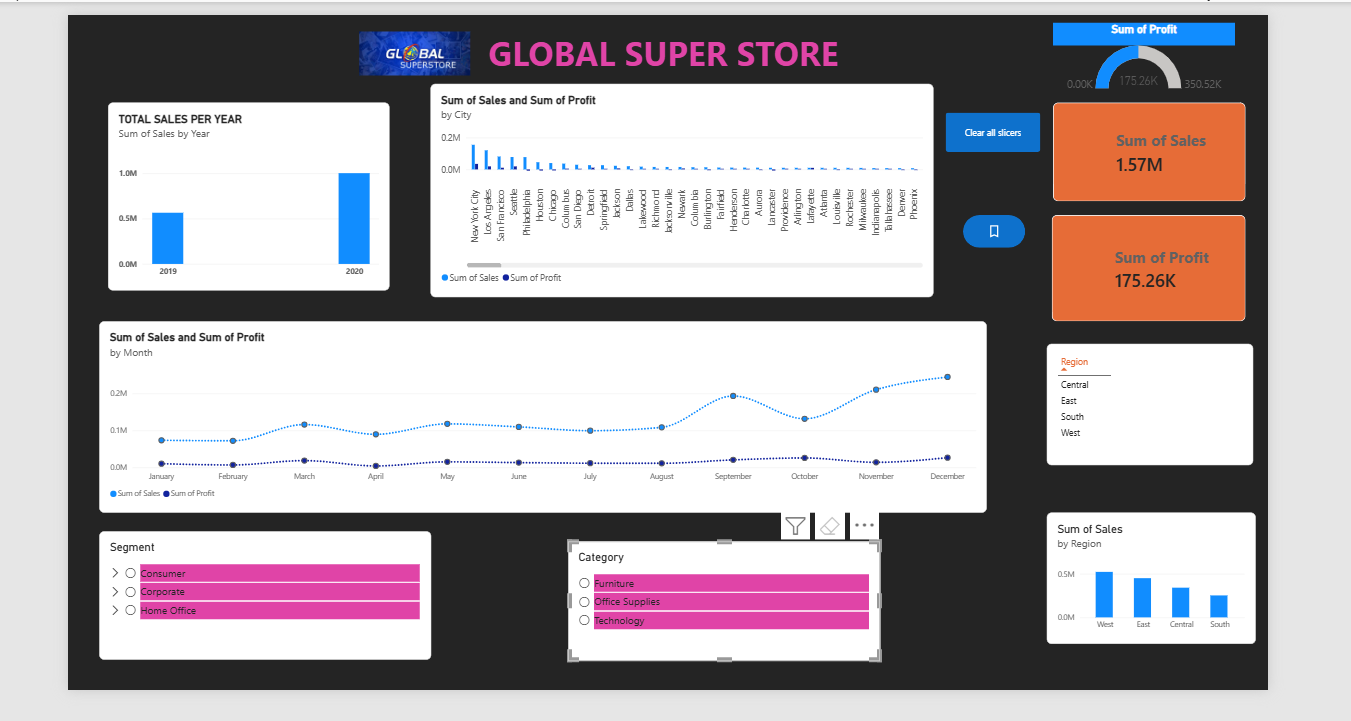

The dashboard page shown, as its layout file describes it:
{"tool":"powerbi","page":{"name":"Page 1","canvas":[1920,1080],"ordinal":0},"visuals":[{"type":"textbox","box":[10,0,280,280],"z":0},{"type":"textbox","box":[10,580,280,280],"z":1000},{"type":"textbox","box":[10.3,24.7,1885.4,115.3],"z":2000},{"type":"image","box":[466.9,0,177.3,123.1],"z":3000},{"type":"cardVisual","fields":{"Data":["Sum(Sheet1.Sales)"]},"box":[1576.7,140,308.7,158.5],"z":4000},{"type":"cardVisual","fields":{"Data":["Sum(Sheet1.Profit)"]},"box":[1574,320,310,170],"z":5000},{"type":"columnChart","title":"TOTAL SALES PER YEAR","fields":{"Category":["Sheet1.Order Date.Variation.Date Hierarchy.Year"],"Y":["Sum(Sheet1.Sales)"]},"box":[63.8,140,450.8,300.5],"z":6000},{"type":"lineChart","fields":{"Category":["Sheet1.Order Date.Variation.Date Hierarchy.Month"],"Y":["Sum(Sheet1.Sales)","Sum(Sheet1.Profit)"]},"box":[50,490,1420.2,306.7],"z":7000},{"type":"lineClusteredColumnComboChart","fields":{"Category":["Sheet1.City"],"Y":["Sum(Sheet1.Sales)","Sum(Sheet1.Profit)"]},"box":[579.1,110.4,804.8,341.7],"z":8000},{"type":"listSlicer","fields":{"Values":["Sheet1.Segment","Sheet1.Category"]},"box":[49.4,825.4,531,205.8],"z":10000},{"type":"listSlicer","fields":{"Values":["Sheet1.Category"]},"box":[800,842,500.2,191.4],"z":11000},{"type":"actionButton","box":[1431.4,320.3,99.5,52.5],"z":12000},{"type":"gauge","fields":{"Y":["Sum(Sheet1.Profit)"]},"box":[1576.2,12.7,291.4,110.4],"z":13000},{"type":"actionButton","box":[1404.3,155.6,152,63.3],"z":14000},{"type":"tableEx","fields":{"Values":["Sheet1.Region"]},"box":[1566,526,330,194],"z":15000},{"type":"clusteredColumnChart","fields":{"Category":["Sheet1.Region"],"Y":["Sum(Sheet1.Sales)"]},"box":[1566,796,334,210],"z":15001}]}

Visuals, with their boxes in screenshot pixels (x1, y1, x2, y2):
textbox: bbox=[63, 4, 241, 181]
textbox: bbox=[63, 372, 241, 550]
textbox: bbox=[63, 19, 1260, 92]
image: bbox=[353, 4, 466, 82]
cardVisual - Sum(Sheet1.Sales): bbox=[1058, 92, 1254, 193]
cardVisual - Sum(Sheet1.Profit): bbox=[1056, 207, 1253, 315]
"TOTAL SALES PER YEAR" columnChart: bbox=[97, 92, 383, 283]
lineChart - Sheet1.Order Date.Variation.Date Hierarchy.Month x Sum(Sheet1.Sales): bbox=[88, 315, 990, 510]
lineClusteredColumnComboChart - Sheet1.City x Sum(Sheet1.Sales): bbox=[424, 74, 935, 291]
listSlicer - Sheet1.Segment x Sheet1.Category: bbox=[88, 528, 425, 659]
listSlicer - Sheet1.Category: bbox=[564, 538, 882, 660]
actionButton: bbox=[966, 207, 1029, 240]
gauge - Sum(Sheet1.Profit): bbox=[1058, 12, 1243, 82]
actionButton: bbox=[948, 102, 1045, 143]
tableEx - Sheet1.Region: bbox=[1051, 338, 1261, 461]
clusteredColumnChart - Sheet1.Region x Sum(Sheet1.Sales): bbox=[1051, 509, 1263, 643]
